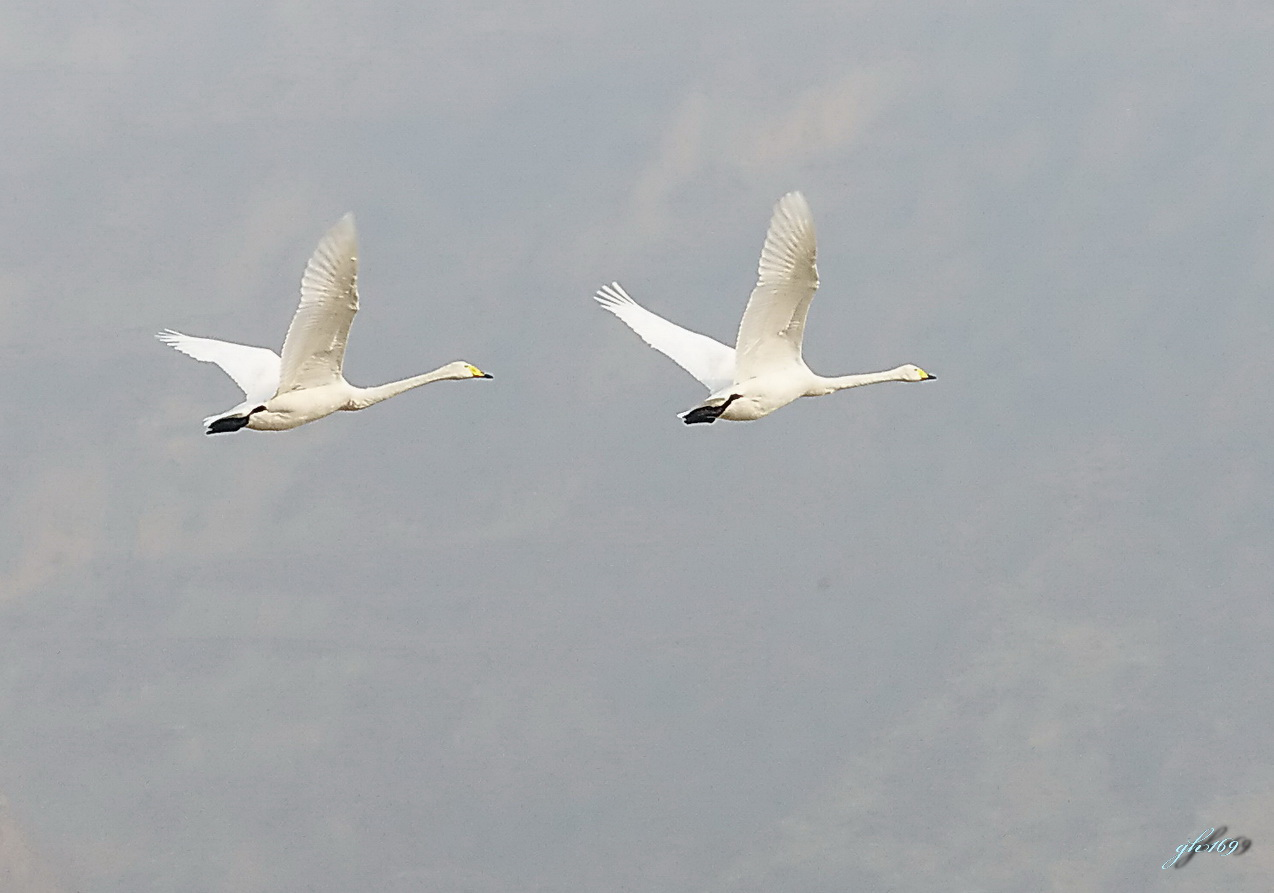bird: (591, 188, 942, 429), (154, 205, 496, 447)
